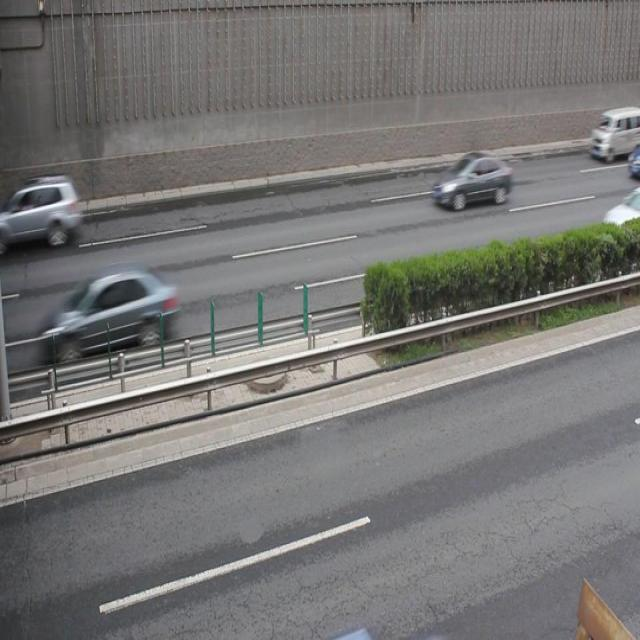car: (46, 276, 176, 364), (1, 177, 80, 257), (434, 155, 511, 211), (599, 187, 640, 240), (627, 149, 640, 173)
truck: (587, 108, 640, 160)
